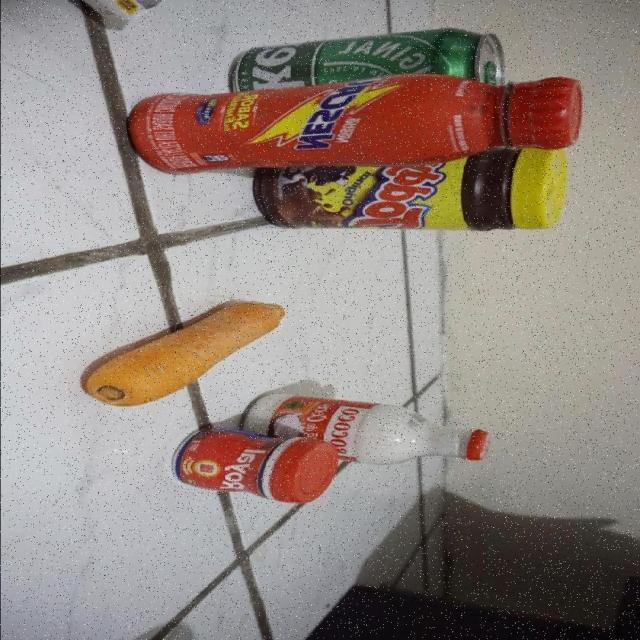BeerCan: (220, 26, 508, 78)
Carrot: (84, 298, 285, 401)
ChocolateMilk: (121, 79, 574, 160)
ChocolatePowder: (255, 165, 569, 233)
CoconutMilk: (247, 394, 491, 442)
Soap: (66, 0, 173, 16)
Yeast: (176, 428, 334, 504)
